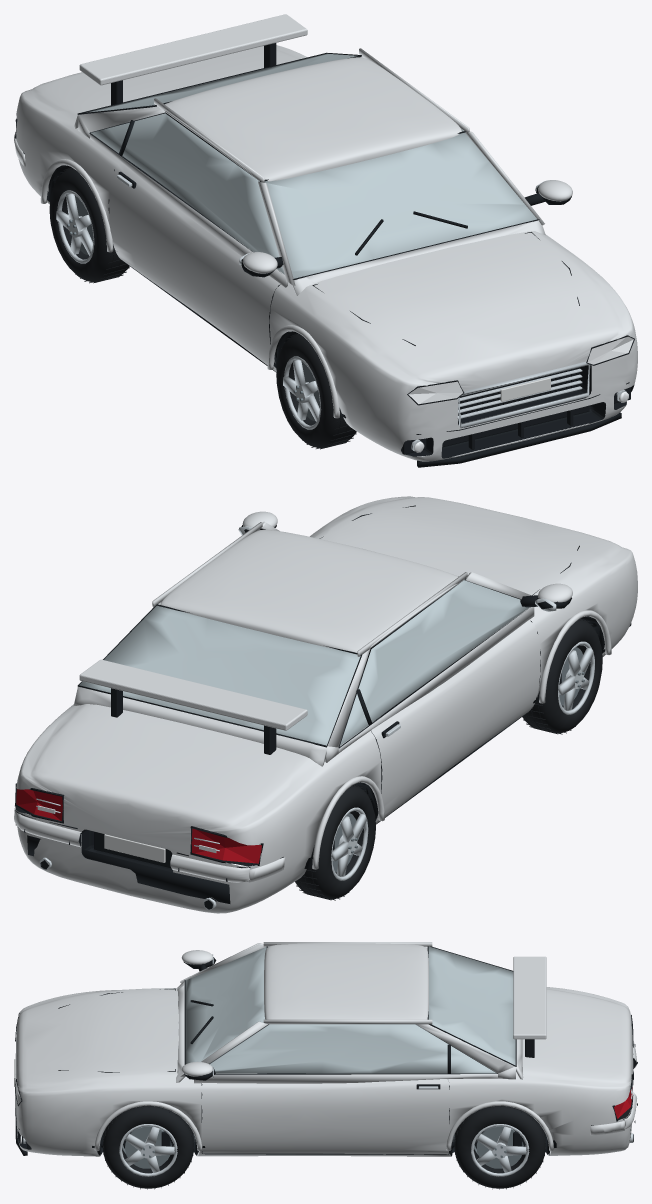
File: sports-lod0.glb
3 renders of one model, top to bottom at view 1: azimuth 30°, elevation 25°; view 2: azimuth 150°, elevation 25°; view 3: azimuth 270°, elevation 25°, orthographic. The views are drawn at different scales.
Visible parts, largest first — view 1: body_paint, body_glass.001, body_black.001, wheelpart_rubber.001 (×2), body_chrome, wheelpart_chrome (×2), body_clearlens, body_white; view 2: body_paint, body_glass.001, body_black.001, wheelpart_rubber.001 (×2), wheelpart_chrome (×2), body_redlens, body_white, body_chrome, body_steel.001; view 3: body_paint, body_glass.001, wheelpart_rubber.001 (×2), body_black.001, wheelpart_chrome (×2), body_steel.001, body_chrome, body_rubber.001.
Boxes of the visible parts, bbox=[...] form: body_paint: bbox=[14, 14, 637, 461]; body_glass.001: bbox=[86, 53, 536, 278]; body_black.001: bbox=[15, 43, 634, 467]; wheelpart_rubber.001 (×2): bbox=[49, 168, 356, 448]; body_chrome: bbox=[69, 174, 626, 450]; wheelpart_chrome (×2): bbox=[56, 190, 321, 429]; body_clearlens: bbox=[408, 336, 633, 452]; body_white: bbox=[500, 377, 550, 401]; body_paint: bbox=[14, 496, 637, 913]; body_glass.001: bbox=[79, 580, 529, 745]; body_black.001: bbox=[15, 505, 631, 909]; wheelpart_rubber.001 (×2): bbox=[295, 619, 602, 899]; wheelpart_chrome (×2): bbox=[331, 641, 594, 880]; body_redlens: bbox=[16, 789, 261, 863]; body_white: bbox=[104, 834, 165, 862]; body_chrome: bbox=[36, 526, 584, 910]; body_steel.001: bbox=[332, 647, 582, 871]; body_paint: bbox=[15, 942, 636, 1156]; body_glass.001: bbox=[185, 946, 515, 1073]; wheelpart_rubber.001 (×2): bbox=[103, 1106, 545, 1188]; body_black.001: bbox=[15, 946, 637, 1155]; wheelpart_chrome (×2): bbox=[119, 1124, 529, 1176]; body_steel.001: bbox=[125, 1126, 523, 1168]; body_chrome: bbox=[15, 954, 633, 1158]; body_rubber.001: bbox=[103, 1106, 545, 1189].
Size of the model in its own units: 2.09 by 1.29 by 4.49.
